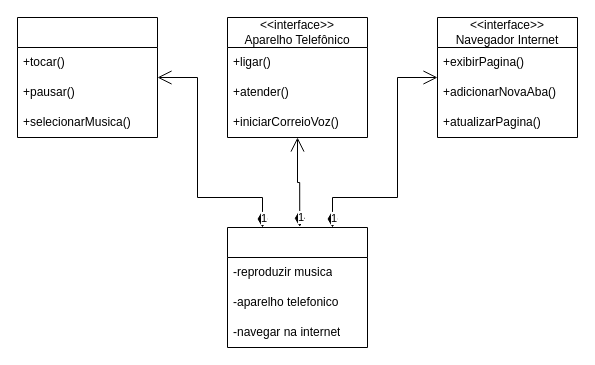
The diagram is 595 pixels wide and 365 high, and some of its shapes have lost their labels. Here are the shapes that lost their labels. From the top down, the box of each, then its label:
(16, 16, 158, 138): <<interface>> Reprodutor Musical
(226, 226, 368, 348): Iphone
